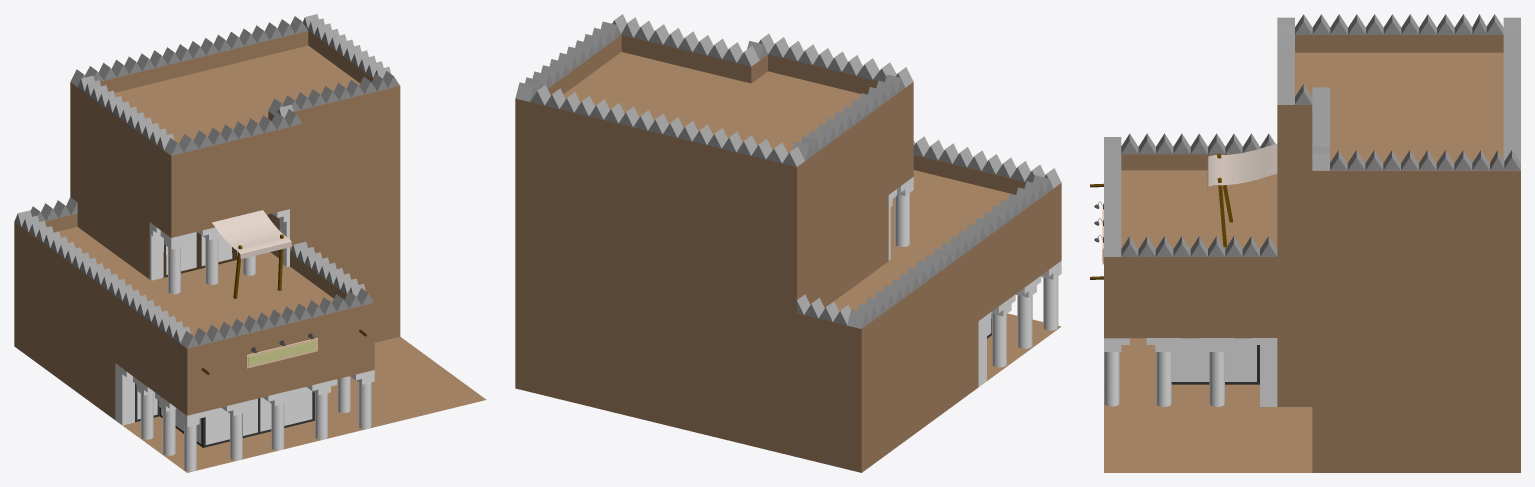
Rendered from Building1.fbx.
3 views of the same model, side by side, from view 1: azimuth 30°, elevation 25°; view 2: azimuth 150°, elevation 25°; view 3: azimuth 270°, elevation 25° (orthographic). The views are drawn at different scales.
Parts seen in each view (by area): view 1: Building, pCylinder1 (×10), G_Glass, Umbrella, pCube20 (×2), F_Glass, Sign; view 2: Building, pCylinder1 (×4), pCube20; view 3: Building, G_Glass, pCylinder1 (×3), Umbrella, pCube20.
Boxes of the visible parts, bbox=[...] form: Building: bbox=[14, 31, 486, 472]; pCylinder1 (×10): bbox=[140, 238, 371, 471]; G_Glass: bbox=[135, 383, 314, 447]; Umbrella: bbox=[212, 210, 291, 258]; pCube20 (×2): bbox=[115, 222, 163, 425]; F_Glass: bbox=[163, 214, 269, 277]; Sign: bbox=[246, 338, 317, 368]; Building: bbox=[515, 35, 1061, 472]; pCylinder1 (×4): bbox=[895, 193, 1058, 367]; pCube20: bbox=[978, 312, 991, 387]; Building: bbox=[1104, 35, 1520, 472]; G_Glass: bbox=[1171, 338, 1259, 384]; pCylinder1 (×3): bbox=[1104, 352, 1224, 406]; Umbrella: bbox=[1207, 143, 1277, 190]; pCube20: bbox=[1251, 338, 1277, 406].
Size of the model in its own units: 24 by 20.12 by 24.81.
